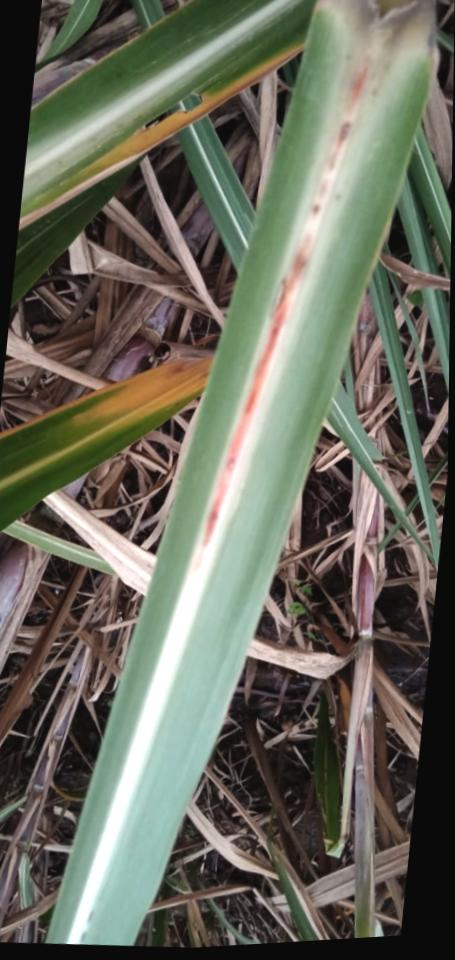RedRot: (90, 43, 303, 167), (0, 357, 212, 438), (103, 373, 208, 431), (327, 121, 350, 174), (348, 68, 366, 109), (319, 178, 328, 197), (311, 203, 320, 217)
Rust: (189, 235, 313, 575)
